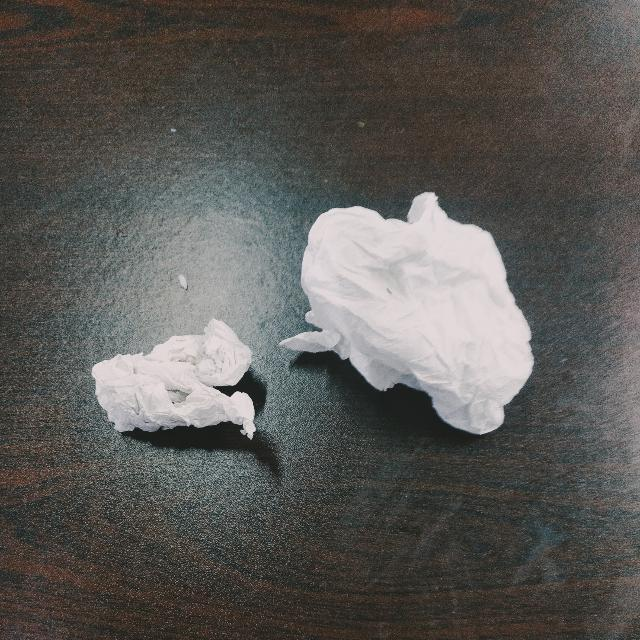kitchen paper: (272, 188, 552, 444), (85, 312, 267, 456)
